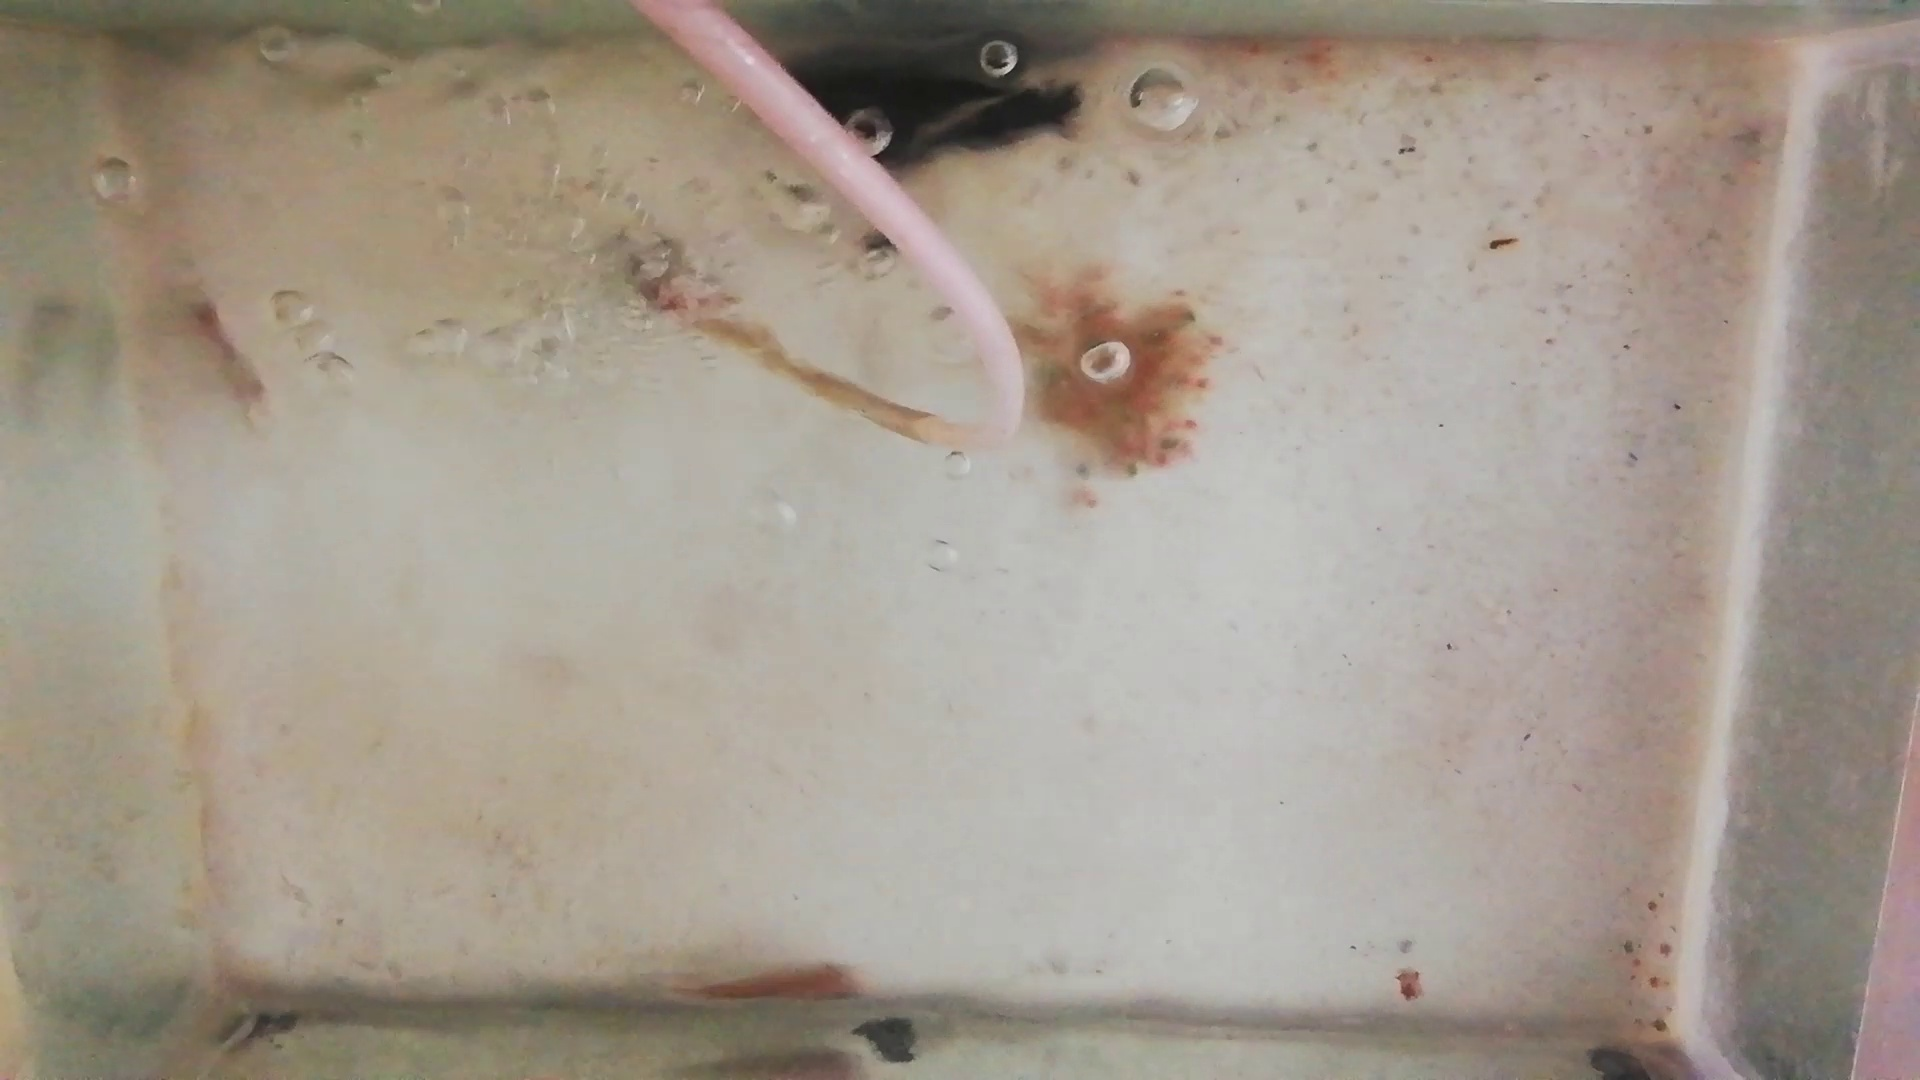fish: (178, 289, 262, 418), (669, 968, 874, 1010)
